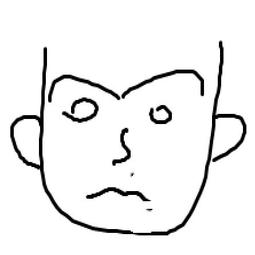ear: (5, 111, 44, 177), (205, 113, 251, 163)
empty_eye: (60, 96, 104, 127), (147, 102, 175, 126)
eyebrow: (48, 63, 121, 104), (124, 67, 207, 100)
line_unsmiling_mouth: (86, 183, 151, 206)
nose: (101, 118, 138, 169)
